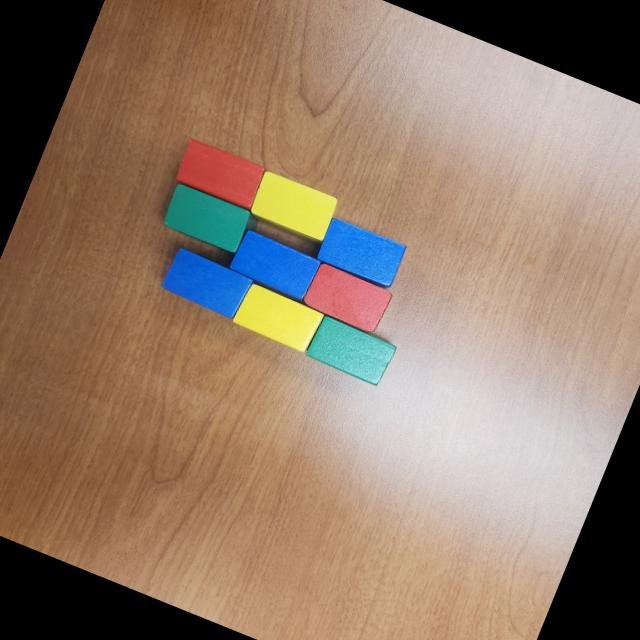blue: (158, 246, 256, 322), (226, 228, 322, 304), (314, 216, 408, 290)
green: (158, 180, 264, 260), (302, 313, 400, 390)
red: (172, 137, 268, 211), (300, 260, 393, 334)
yellow: (248, 168, 340, 241), (232, 282, 324, 354)
